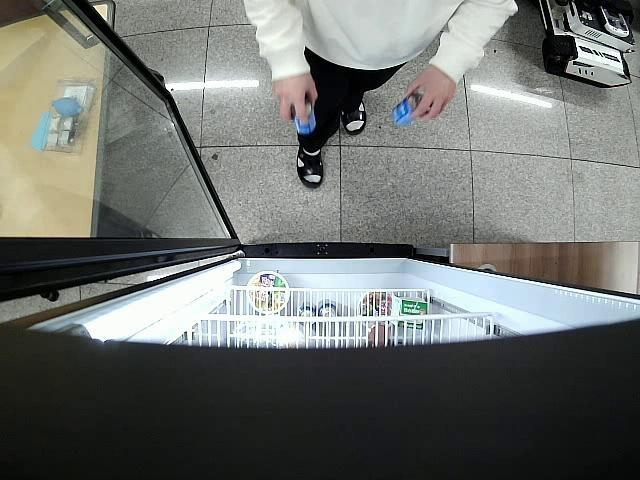15_letsbe: (392, 94, 421, 126), (293, 100, 316, 134)
